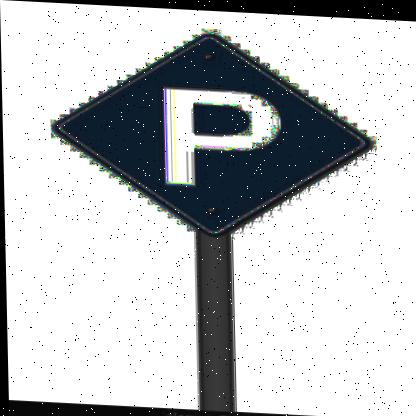Parking: (43, 25, 367, 231)
